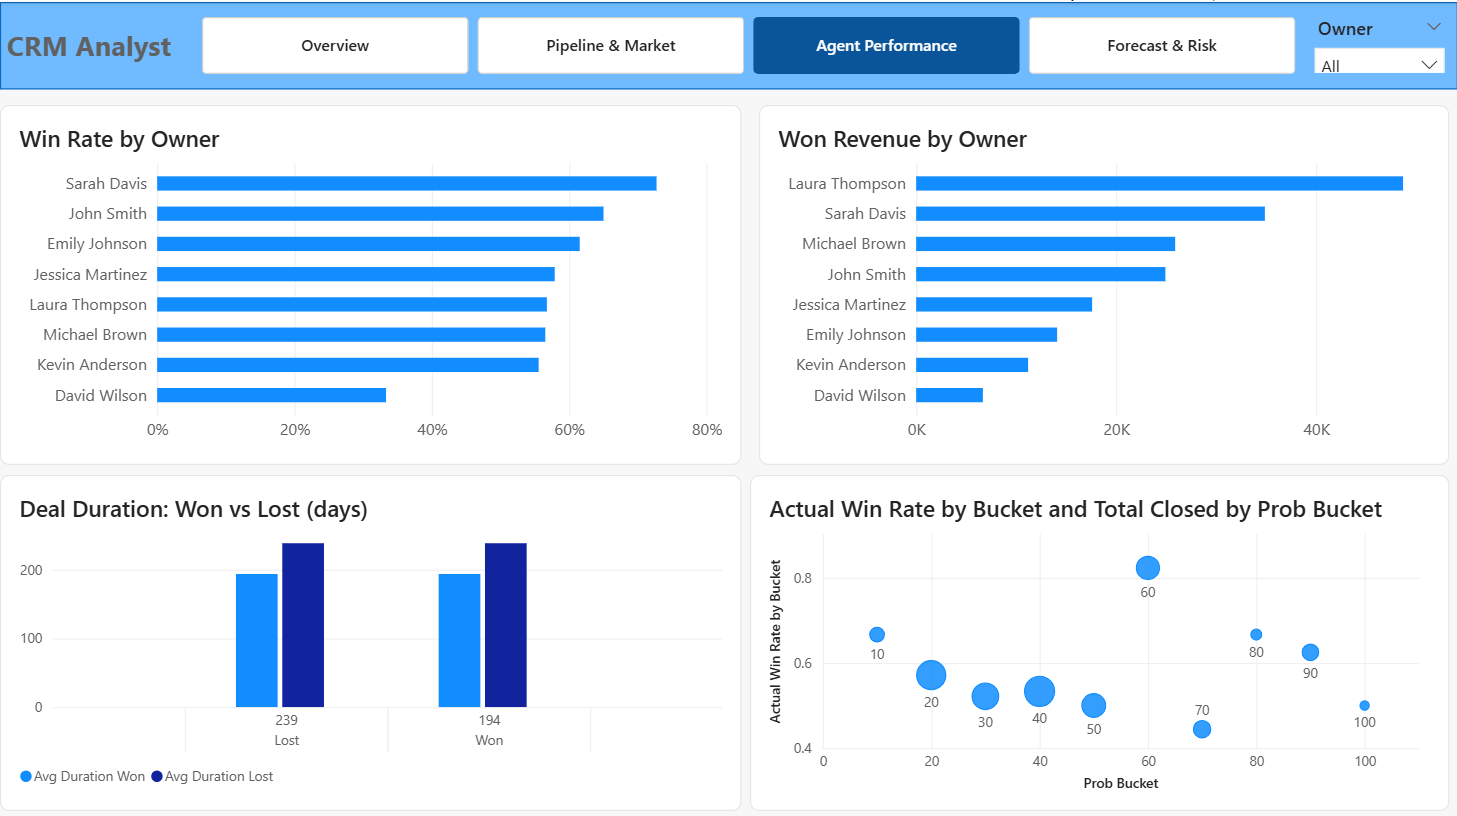

What the dashboard file says about the page in this screenshot:
{"tool":"powerbi","page":{"name":" Agent Performance","canvas":[1280,720],"ordinal":2},"visuals":[{"type":"shape","box":[0,0,1280,76.7],"z":0},{"type":"textbox","box":[0,21.2,156.2,55.4],"z":1000},{"type":"pageNavigator","box":[177.4,13.1,962.5,50.4],"z":2000},{"type":"clusteredBarChart","fields":{"Category":["crm_data.Owner"],"Y":["crm_data.Win Rate"]},"box":[0,90.7,651.3,316.4],"z":3000},{"type":"clusteredBarChart","fields":{"Category":["crm_data.Owner"],"Y":["crm_data.Won Revenue"]},"box":[666.8,90.7,606,316.4],"z":4000},{"type":"clusteredColumnChart","title":"Deal Duration: Won vs Lost (days)","fields":{"Category":["Duration Table.Outcome","Duration Table.Avg Days"],"Y":["crm_data.Avg Duration Won","crm_data.Avg Duration Lost"]},"box":[0,415.3,651.3,294.8],"z":5000},{"type":"scatterChart","fields":{"Size":["crm_data.Total Closed"],"X":["crm_data.Prob Bucket"],"Y":["crm_data.Actual Win Rate by Bucket"]},"box":[658.6,415.3,614.2,294.8],"z":6000},{"type":"slicer","fields":{"Values":["crm_data.Owner"]},"box":[1149.1,12.4,123.7,50.5],"z":7000}]}

Visuals, with their boxes in screenshot pixels (x1, y1, x2, y2), scaled from the page's 1280x720 canvas onto the 1457x816 screenshot:
shape: <box>0,0,1456,87</box>
textbox: <box>0,24,178,87</box>
pageNavigator: <box>202,15,1298,72</box>
clusteredBarChart - crm_data.Owner x crm_data.Win Rate: <box>0,103,741,461</box>
clusteredBarChart - crm_data.Owner x crm_data.Won Revenue: <box>759,103,1449,461</box>
"Deal Duration: Won vs Lost (days)" clusteredColumnChart: <box>0,471,741,805</box>
scatterChart - crm_data.Total Closed x crm_data.Prob Bucket: <box>750,471,1449,805</box>
slicer - crm_data.Owner: <box>1308,14,1449,71</box>
